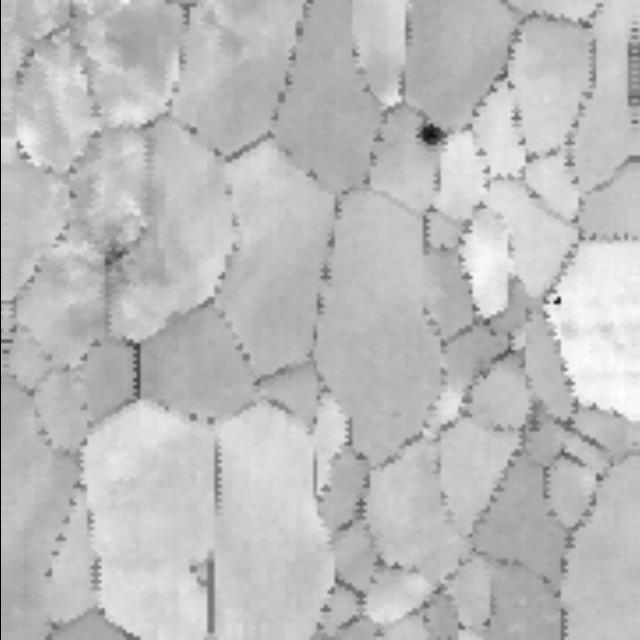good_void: (83, 220, 155, 284), (395, 116, 451, 156), (184, 559, 209, 591), (490, 417, 510, 439), (550, 291, 565, 313)
